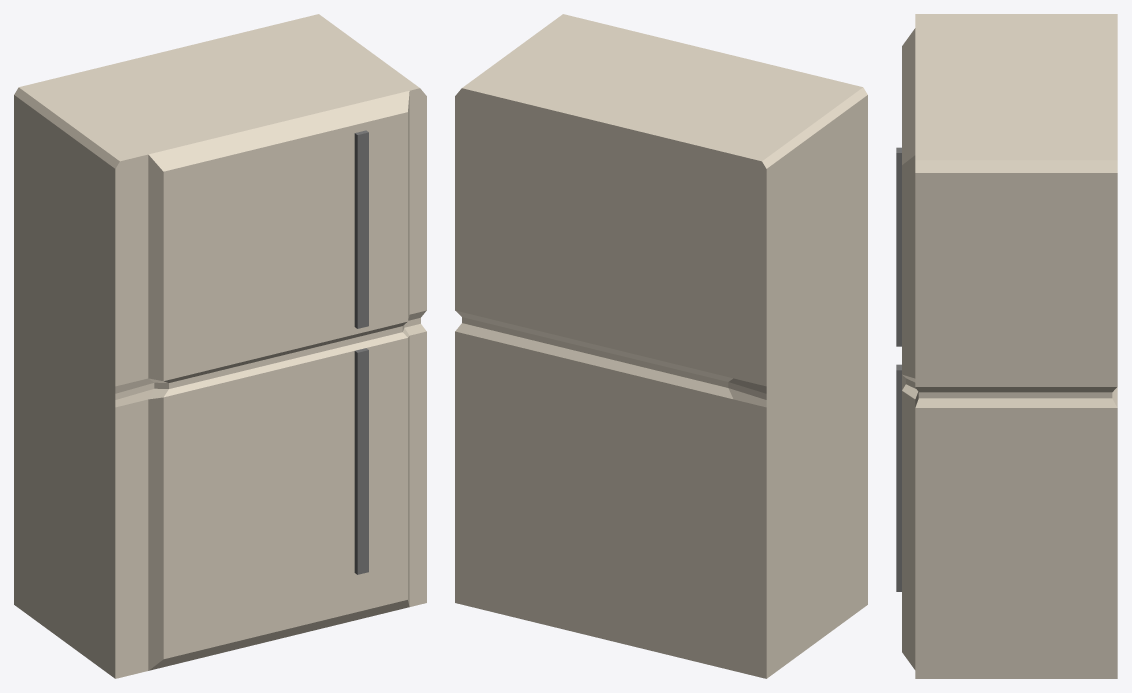
Rendered from fridge 1.fbx.
The picture shows the model from 3 angles, left to right: view 1: azimuth 30°, elevation 25°; view 2: azimuth 150°, elevation 25°; view 3: azimuth 270°, elevation 25°; orthographic projection.
Parts seen in each view (by area): view 1: Cube; view 2: Cube; view 3: Cube.
Part boxes in pixels (box(x1,y1,x2,y2)): Cube: box(14, 14, 426, 678); Cube: box(455, 14, 867, 678); Cube: box(896, 14, 1117, 678).
Size of the model in its own units: 355 by 563 by 219.
